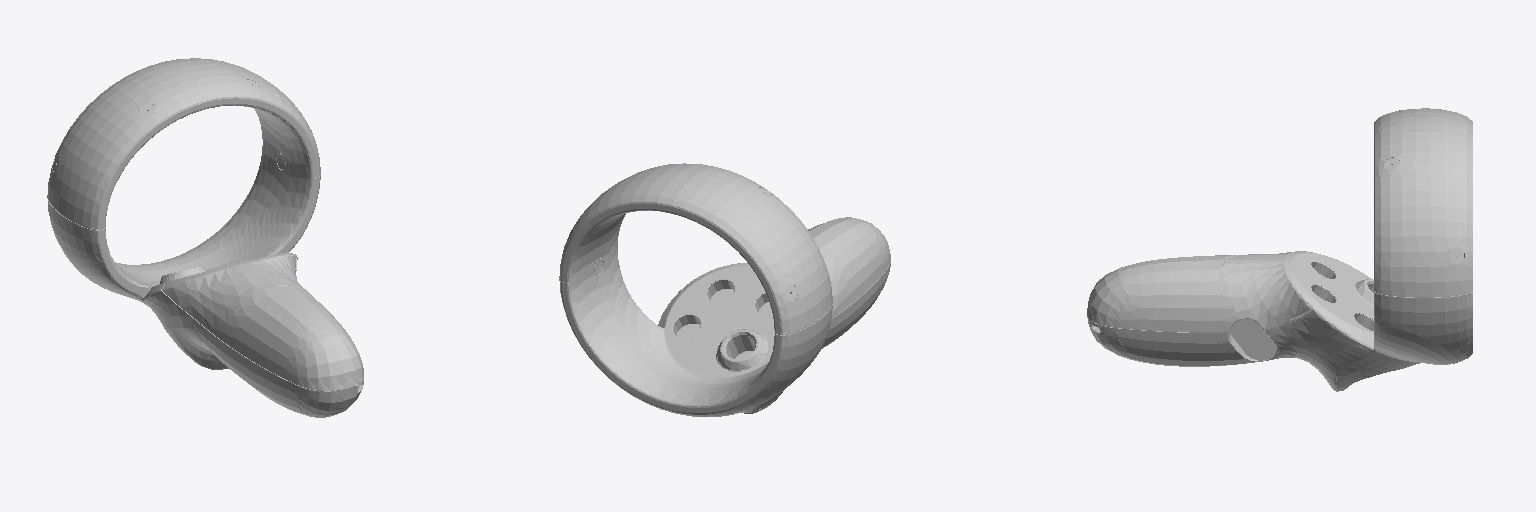
Rendered from body.obj.
The picture shows the model from 3 angles: view 1: azimuth 30°, elevation 25°; view 2: azimuth 150°, elevation 25°; view 3: azimuth 270°, elevation 25°; orthographic projection.
Parts seen in each view (by area): view 1: body.002; view 2: body.002; view 3: body.002.
Part boxes in pixels (x1,y1,x2,y2): body.002: (47,58,363,417); body.002: (559,163,890,416); body.002: (1087,108,1472,391).
Bounding box in the file's own units: 0.097 × 0.1008 × 0.1326.